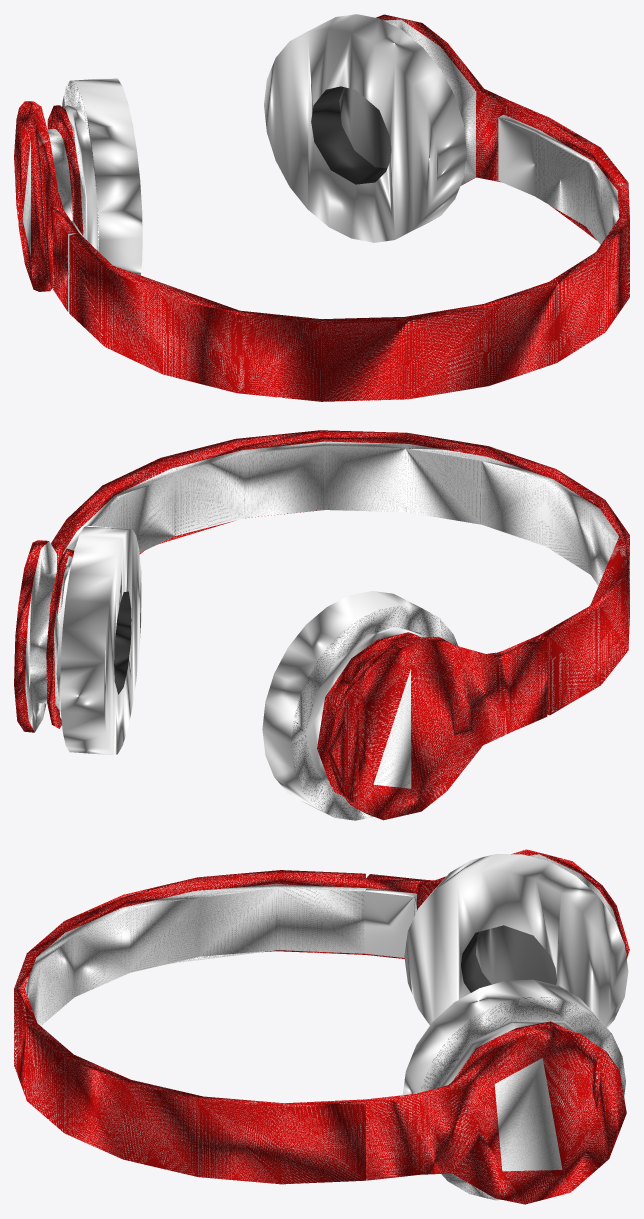
Rendered from model_align.obj.
The picture shows the model from 3 angles, top to bottom: view 1: azimuth 30°, elevation 25°; view 2: azimuth 150°, elevation 25°; view 3: azimuth 270°, elevation 25°; orthographic projection. The views are drawn at different scales.
Size of the model in its own units: 0.1604 by 0.0635 by 0.1757.
